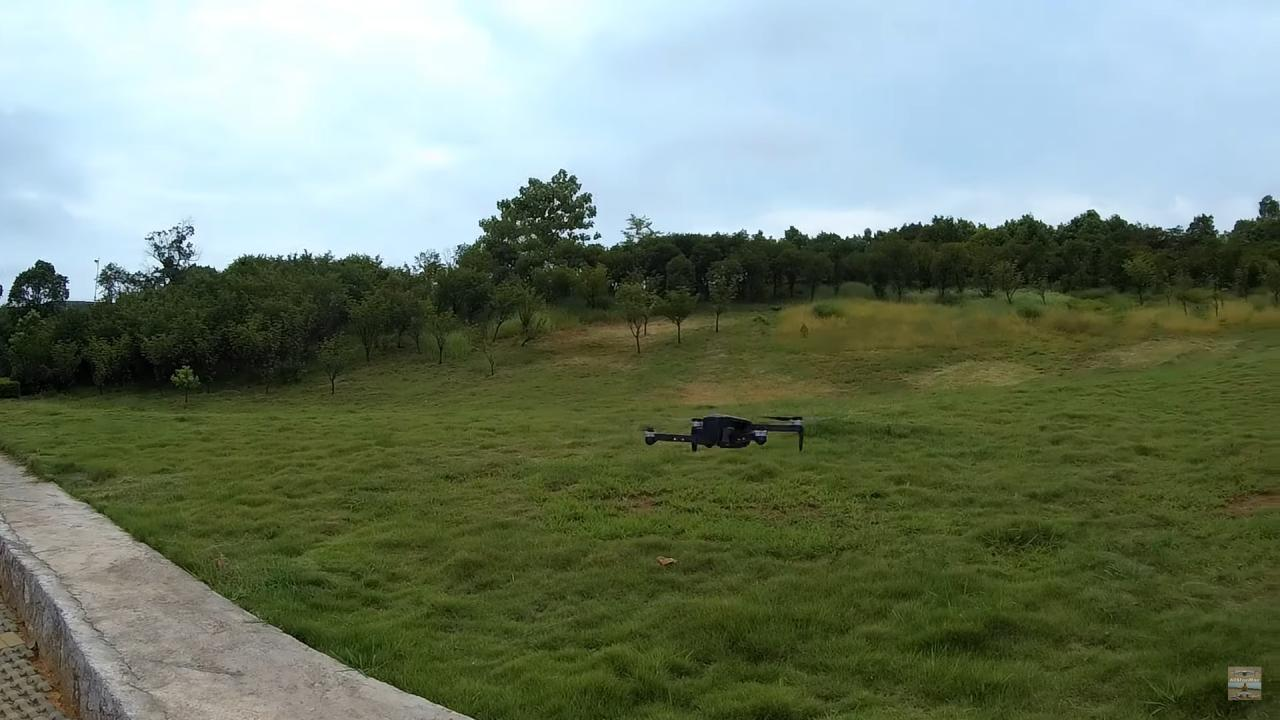Drone: (632, 402, 821, 463)
